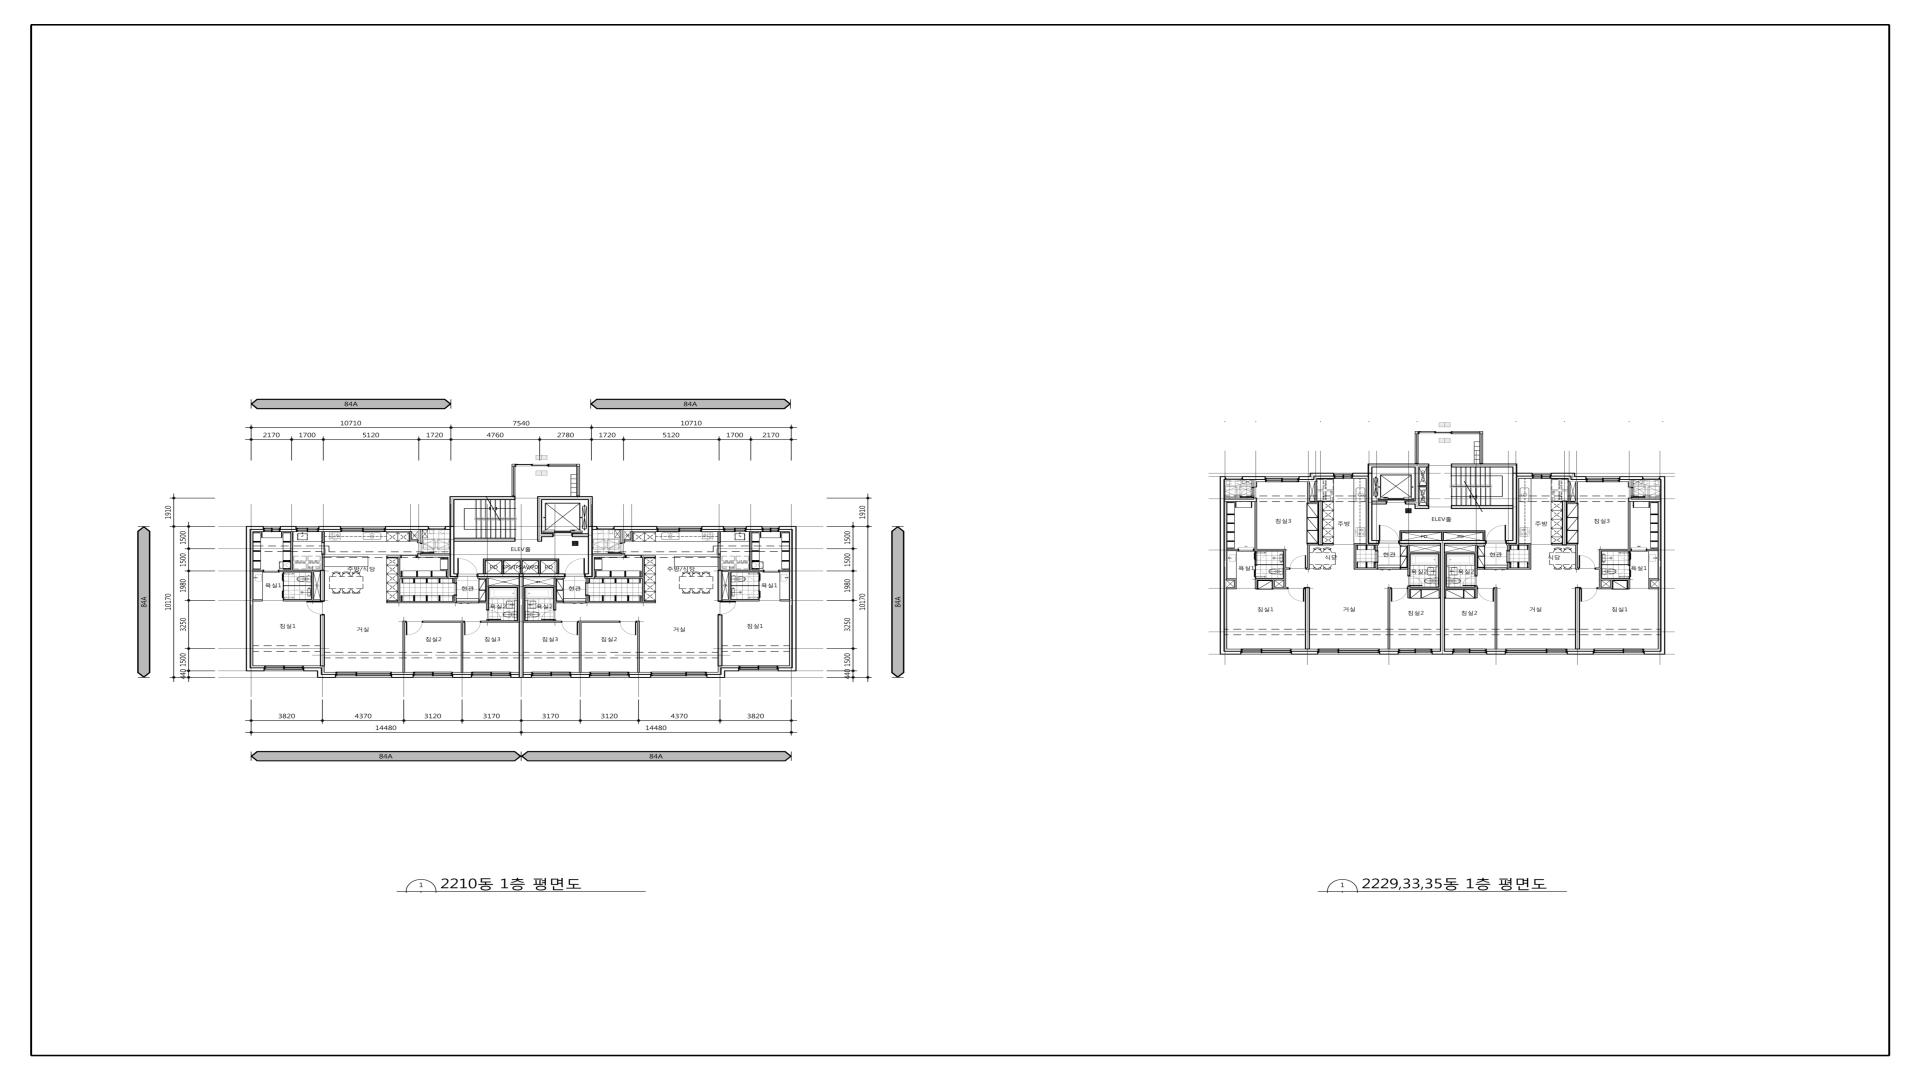door: (564, 558, 585, 578), (458, 558, 479, 578), (1378, 525, 1399, 543), (1486, 525, 1506, 543), (518, 524, 538, 542), (1580, 587, 1598, 601), (405, 621, 423, 636), (560, 621, 579, 636), (717, 601, 736, 616), (1578, 555, 1596, 570), (1477, 587, 1494, 601), (1288, 587, 1305, 601), (1290, 555, 1307, 570), (1391, 587, 1408, 601), (464, 621, 481, 636), (620, 621, 637, 636), (306, 601, 324, 615), (1407, 575, 1423, 587), (1462, 575, 1477, 587), (1240, 487, 1254, 498), (541, 609, 556, 620), (1419, 431, 1480, 434), (1631, 488, 1646, 498), (419, 543, 434, 554), (487, 609, 501, 620), (608, 543, 622, 554), (1619, 551, 1631, 560), (1619, 570, 1631, 579), (282, 589, 294, 599), (748, 589, 760, 599), (1254, 570, 1266, 578), (1254, 551, 1266, 559), (282, 574, 294, 582), (748, 574, 760, 582), (1378, 567, 1400, 570), (1485, 567, 1507, 570), (563, 601, 585, 604), (717, 542, 721, 555), (262, 570, 280, 572), (401, 555, 418, 558), (625, 555, 642, 558), (1631, 549, 1647, 551), (1506, 551, 1510, 562), (1238, 549, 1254, 551), (764, 570, 779, 572), (322, 542, 324, 555), (456, 601, 479, 603), (1375, 551, 1378, 562)
wall: (1659, 476, 1665, 651), (1220, 476, 1225, 654), (1506, 467, 1518, 543), (791, 530, 796, 671), (245, 530, 251, 667), (1440, 543, 1445, 651), (518, 578, 524, 678), (1367, 467, 1373, 543), (1575, 587, 1580, 649), (1304, 587, 1309, 649), (1451, 464, 1518, 468), (717, 616, 723, 666), (455, 496, 518, 500), (455, 538, 518, 542), (450, 526, 455, 574), (588, 526, 593, 574), (1387, 587, 1391, 649), (1367, 463, 1429, 467), (1451, 505, 1513, 509), (1317, 501, 1323, 546), (1399, 541, 1486, 543), (1399, 530, 1485, 533), (537, 496, 593, 500), (537, 500, 542, 542), (320, 615, 324, 666), (1563, 501, 1567, 546), (385, 526, 429, 530), (1225, 497, 1257, 502), (1415, 467, 1419, 509), (717, 570, 723, 601), (615, 526, 657, 530), (1494, 587, 1497, 649), (479, 574, 520, 578), (524, 574, 564, 578), (450, 496, 455, 526), (588, 500, 593, 526), (402, 622, 405, 673), (460, 622, 463, 673), (579, 622, 582, 673), (637, 622, 640, 673), (400, 576, 448, 579), (1629, 498, 1660, 502), (320, 570, 324, 601), (512, 464, 516, 496), (595, 576, 642, 579), (1254, 502, 1257, 549), (576, 467, 580, 496), (280, 570, 320, 572), (723, 570, 764, 572), (1427, 467, 1429, 505), (290, 531, 293, 570), (483, 559, 559, 560), (284, 599, 320, 601), (723, 599, 760, 601), (1242, 476, 1266, 480), (1619, 476, 1643, 480), (1283, 551, 1286, 587), (1309, 472, 1333, 476), (388, 601, 456, 603), (702, 526, 724, 530), (588, 601, 655, 603), (1444, 554, 1447, 587), (1444, 551, 1476, 554), (1644, 650, 1665, 654), (1254, 549, 1286, 551), (629, 674, 650, 678), (392, 674, 413, 678), (487, 578, 489, 609), (554, 578, 556, 609), (549, 464, 580, 467), (319, 526, 340, 530), (1601, 549, 1631, 551), (1445, 587, 1476, 589), (1410, 587, 1440, 589), (1407, 545, 1410, 575), (1567, 651, 1594, 654), (1255, 578, 1283, 580), (720, 667, 738, 671), (707, 674, 725, 678), (571, 674, 589, 678), (452, 674, 471, 678), (303, 667, 322, 671), (245, 667, 264, 671), (245, 526, 264, 530), (1291, 651, 1317, 654), (311, 572, 314, 599), (728, 572, 731, 599), (779, 526, 796, 530), (318, 674, 335, 678), (1576, 545, 1578, 570), (746, 526, 762, 530), (1551, 473, 1575, 476), (1571, 476, 1586, 480), (1528, 546, 1531, 570), (1307, 546, 1309, 570), (1299, 476, 1315, 480), (572, 533, 588, 537), (717, 554, 721, 570), (281, 526, 297, 530), (1629, 502, 1630, 549), (642, 555, 644, 601), (1518, 472, 1532, 476), (1373, 501, 1387, 505), (398, 558, 400, 601), (1432, 651, 1453, 654), (423, 621, 464, 622), (579, 621, 620, 622), (1568, 481, 1571, 501), (1576, 481, 1578, 501), (1486, 651, 1506, 654), (1379, 651, 1399, 654), (1315, 481, 1317, 501), (1307, 481, 1309, 501), (778, 667, 791, 671), (1600, 549, 1601, 587), (481, 621, 520, 622), (750, 531, 752, 570), (524, 621, 560, 622), (542, 533, 554, 537), (518, 585, 520, 621), (524, 585, 525, 621), (1439, 554, 1440, 587), (1597, 587, 1613, 589), (1225, 651, 1241, 654), (1419, 505, 1429, 509), (322, 554, 324, 570), (1476, 545, 1477, 575), (1410, 553, 1440, 554), (592, 554, 622, 555), (1601, 579, 1630, 580), (1353, 473, 1367, 476), (489, 585, 518, 587), (525, 585, 554, 587), (1601, 564, 1629, 566), (1255, 564, 1283, 566), (1406, 501, 1415, 505), (510, 674, 520, 678), (1275, 587, 1288, 589), (419, 530, 422, 543), (388, 555, 401, 558), (620, 530, 622, 543), (556, 560, 559, 574), (538, 560, 541, 574), (520, 560, 522, 574), (501, 560, 504, 574), (483, 560, 485, 574), (1354, 545, 1356, 570), (1647, 549, 1659, 551), (1519, 543, 1531, 546), (1307, 543, 1319, 546), (1226, 549, 1238, 551), (1407, 587, 1410, 599), (524, 674, 531, 678), (450, 574, 458, 578), (1356, 568, 1378, 570), (1507, 568, 1528, 570), (322, 531, 324, 542), (252, 570, 262, 572), (645, 555, 655, 558), (717, 531, 720, 542), (779, 599, 790, 601), (779, 570, 790, 572), (585, 574, 592, 578), (1648, 580, 1651, 589), (1627, 580, 1630, 589), (1255, 580, 1258, 589), (1273, 580, 1275, 589), (1234, 580, 1237, 589), (409, 531, 411, 541), (1399, 533, 1402, 541), (1482, 533, 1485, 541), (1651, 587, 1659, 589), (1441, 533, 1444, 541), (1226, 587, 1234, 589), (630, 531, 633, 539), (1507, 545, 1510, 551), (1507, 562, 1510, 568), (1610, 580, 1613, 587), (1251, 480, 1254, 487), (1373, 541, 1379, 543), (1375, 562, 1378, 568), (1375, 545, 1378, 551), (585, 596, 588, 603), (1567, 501, 1578, 502), (1476, 587, 1477, 599), (1354, 543, 1366, 545), (446, 526, 450, 530), (520, 574, 524, 578), (593, 526, 597, 530), (1567, 543, 1577, 545), (1552, 543, 1563, 545), (1648, 579, 1659, 580), (1254, 559, 1255, 570), (1323, 543, 1333, 545), (1307, 501, 1317, 502), (1226, 579, 1237, 580), (720, 671, 725, 674), (316, 671, 322, 674), (454, 596, 456, 601), (454, 578, 456, 583), (585, 578, 588, 583), (1629, 560, 1630, 570), (282, 582, 284, 591), (624, 539, 633, 541), (758, 582, 760, 591), (1631, 480, 1633, 488), (1477, 568, 1485, 570), (1286, 567, 1290, 570), (1419, 485, 1427, 487), (479, 601, 487, 603), (1400, 568, 1407, 570), (411, 539, 418, 541), (556, 601, 563, 603), (1596, 568, 1600, 570), (402, 621, 405, 622), (554, 620, 556, 621), (637, 621, 640, 622), (487, 620, 488, 621), (284, 585, 311, 585), (732, 585, 758, 585)
window: (650, 671, 707, 678), (335, 671, 392, 678), (1317, 649, 1379, 654), (1506, 649, 1567, 654), (471, 671, 512, 678), (1594, 649, 1644, 654), (1241, 649, 1291, 654), (589, 671, 629, 678), (531, 671, 571, 678), (413, 671, 452, 678), (340, 526, 385, 531), (657, 526, 702, 531), (1266, 476, 1299, 483), (738, 666, 778, 671), (264, 666, 303, 671), (1586, 476, 1619, 481), (1453, 649, 1486, 654), (1399, 649, 1432, 654), (1415, 431, 1419, 464), (1480, 431, 1484, 464), (1333, 472, 1353, 479), (297, 526, 319, 531), (724, 526, 746, 531), (1532, 473, 1551, 479), (264, 526, 281, 531), (762, 526, 779, 531), (516, 464, 549, 467), (517, 496, 537, 500), (1643, 476, 1660, 480), (1225, 476, 1242, 480), (429, 526, 446, 530), (597, 526, 615, 530)
